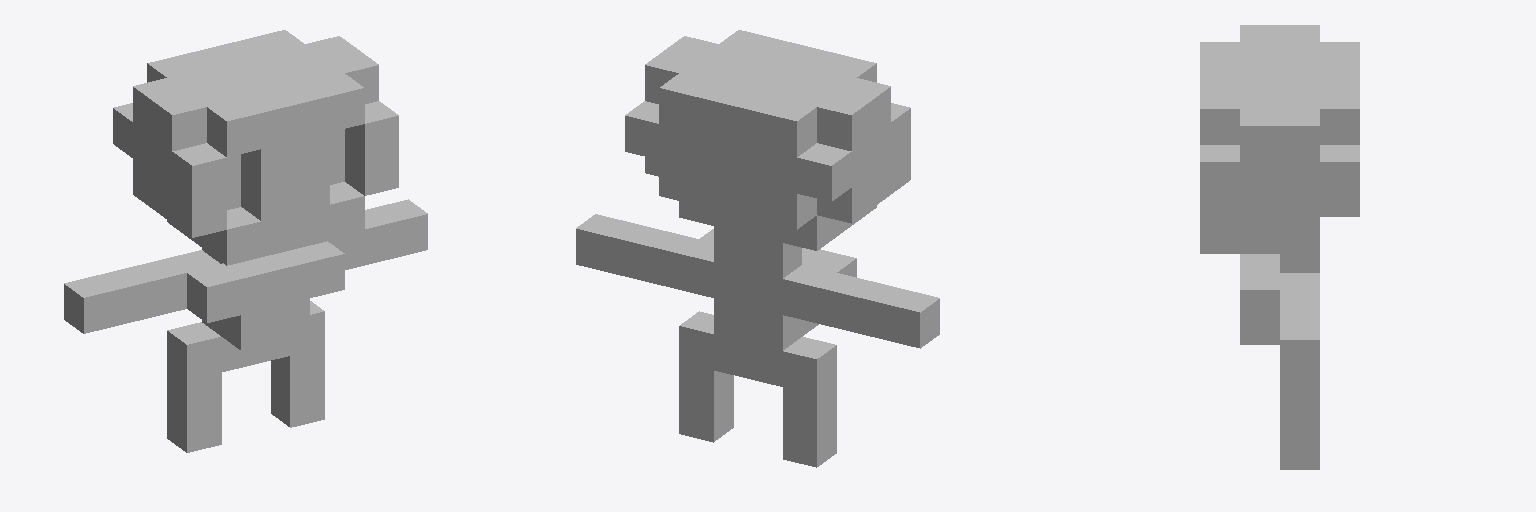
File: Skelet.obj
The picture shows the model from 3 angles: view 1: azimuth 30°, elevation 25°; view 2: azimuth 150°, elevation 25°; view 3: azimuth 270°, elevation 25°; orthographic projection.
Parts seen in each view (by area): view 1: object 1; view 2: object 1; view 3: object 1.
Part boxes in pixels (x1,y1,x2,y2): object 1: (64, 30, 427, 452); object 1: (576, 30, 939, 467); object 1: (1200, 25, 1359, 469).
Bounding box in the file's own units: 1 × 1 × 0.4.